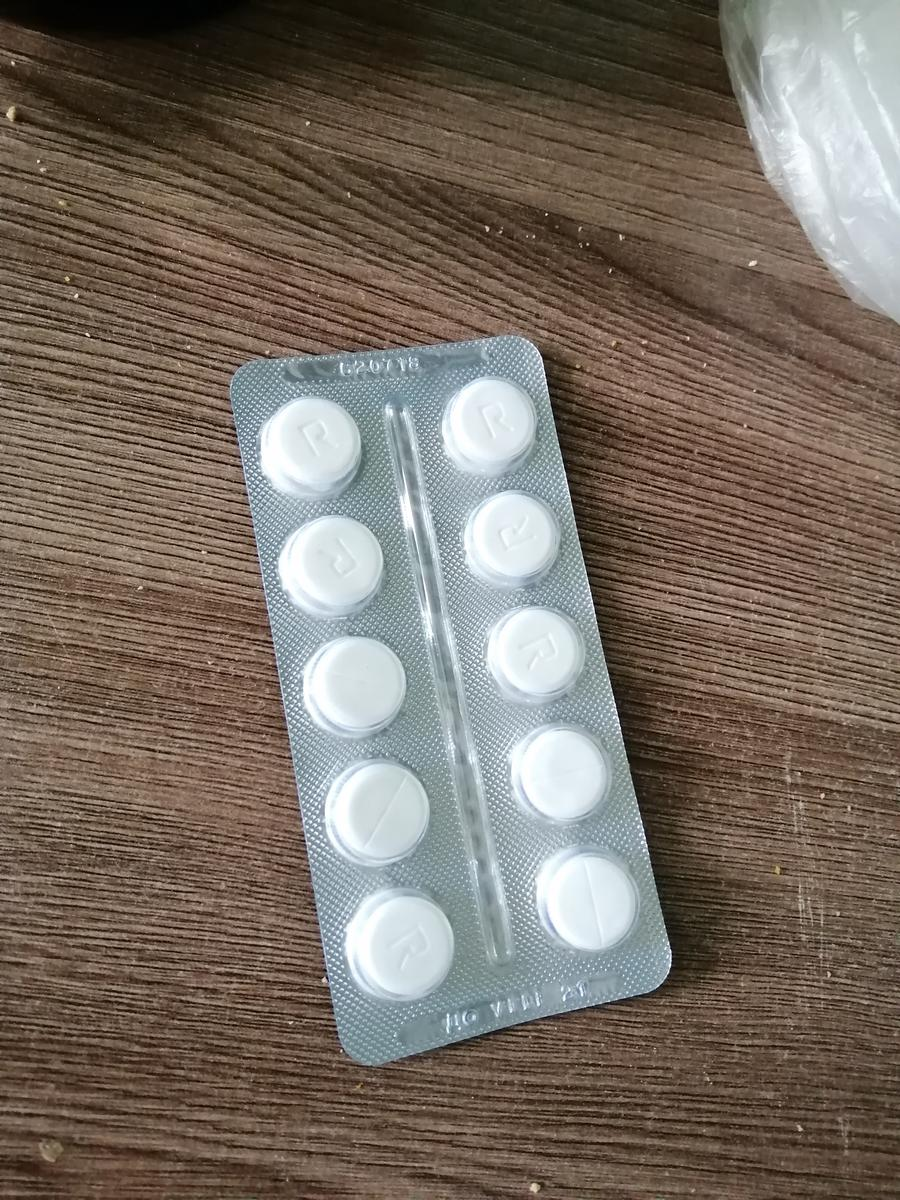tablet: (347, 890, 459, 1000), (533, 849, 643, 958), (305, 633, 408, 741), (331, 759, 431, 868), (511, 723, 613, 828), (263, 394, 364, 497), (486, 605, 588, 705), (284, 510, 383, 613), (461, 487, 564, 585), (443, 376, 537, 473)
